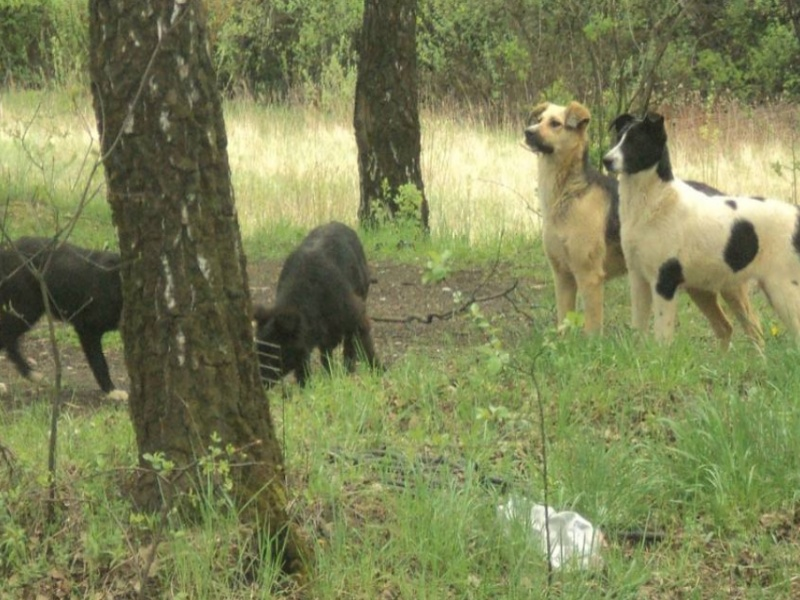dog: (522, 98, 747, 369), (601, 105, 799, 376), (248, 214, 396, 405), (1, 226, 127, 395)
